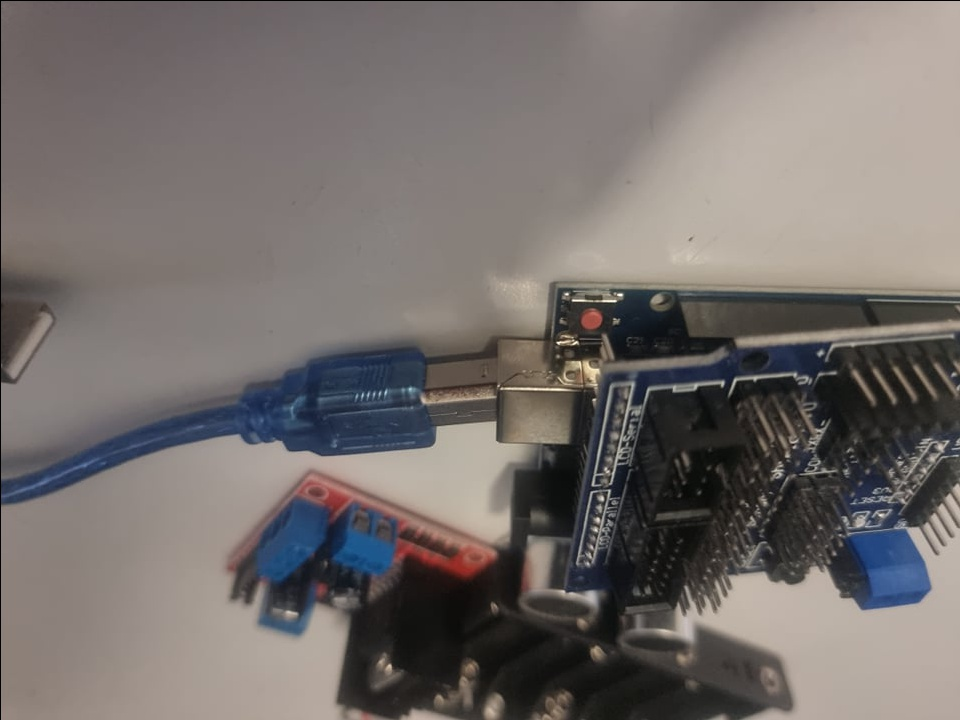5V EXPANSION: (590, 355, 955, 617)
BATTERY BOX: (445, 627, 794, 719)
MOTOR: (222, 467, 493, 717)
UNO R3: (494, 271, 591, 582)
